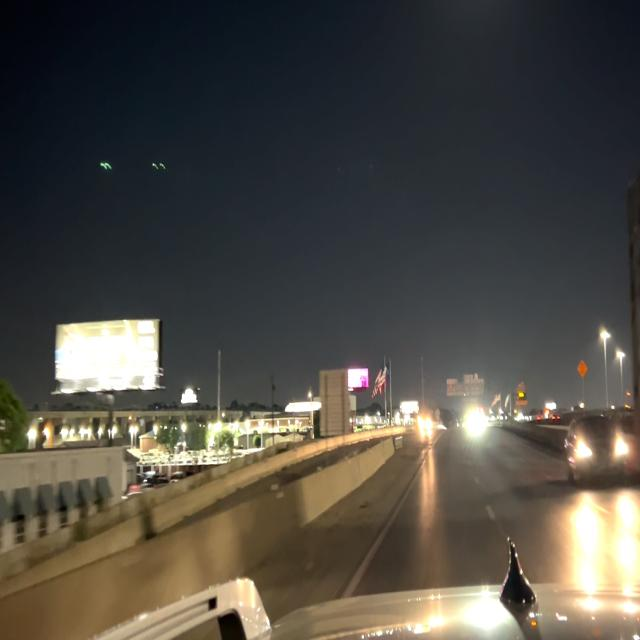back-of-sign: (315, 364, 354, 440), (444, 373, 486, 400)
